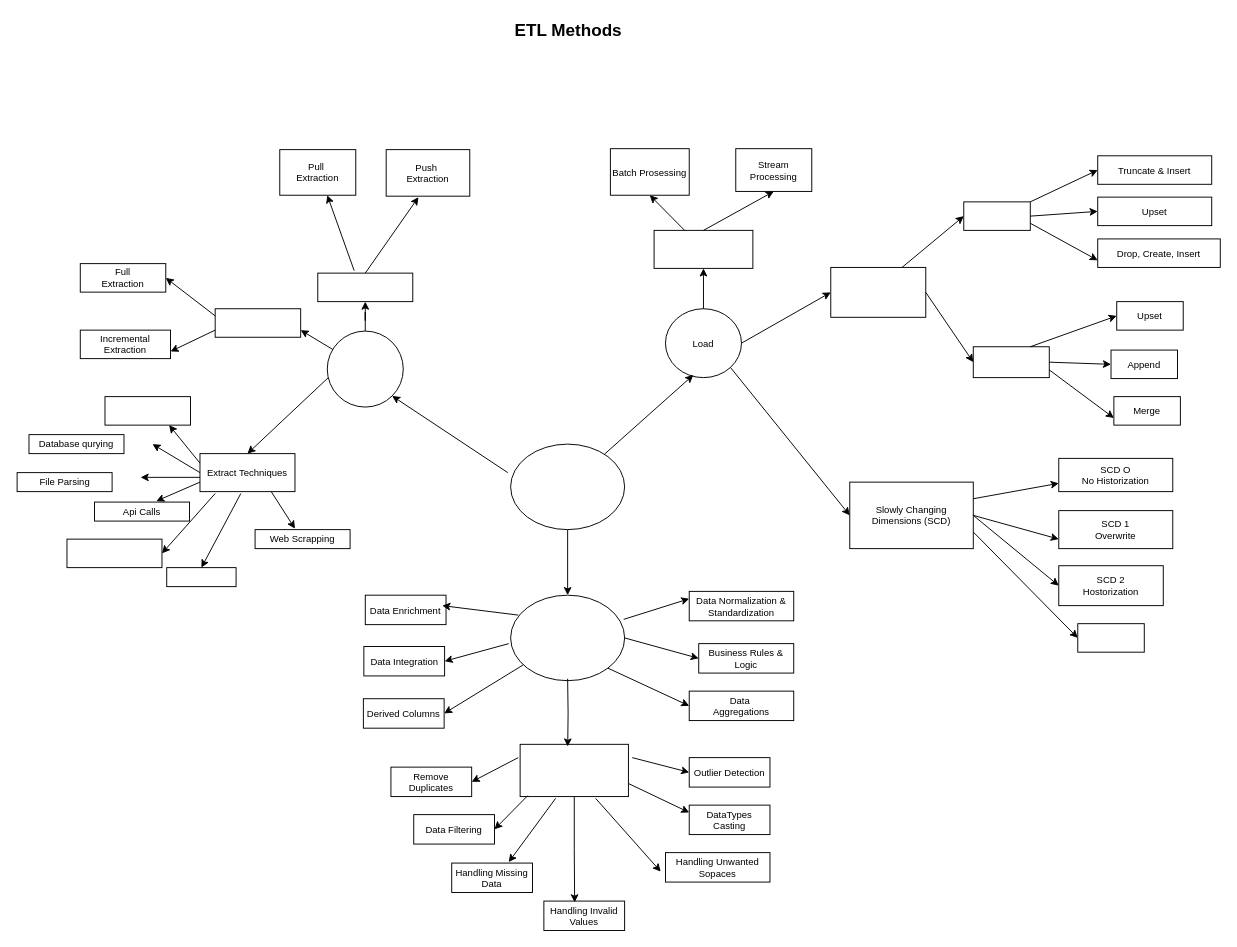
This 1237x947 diagram has some shape labels left out. The centre of each missing label's shape, as x and y in pixels:
"CDC" belongs at (x=201, y=577).
"Data Cleansing" belongs at (x=573, y=770).
"ETL" belongs at (x=567, y=486).
"Event Based Streaming" belongs at (x=114, y=553).
"Extract Types" belongs at (x=257, y=322).
"Extraction" belongs at (x=364, y=368).
"Extraction Methods" belongs at (x=365, y=287).
"Full Load" belongs at (x=996, y=215).
"Increamental Load" belongs at (x=1010, y=362).
"Load Methods" belongs at (x=878, y=291).
"Manual Data Extraction" belongs at (x=147, y=410).
"Processing Types" belongs at (x=703, y=248).
"SCD -" belongs at (x=1110, y=637).
"Transformation" belongs at (x=567, y=637).
